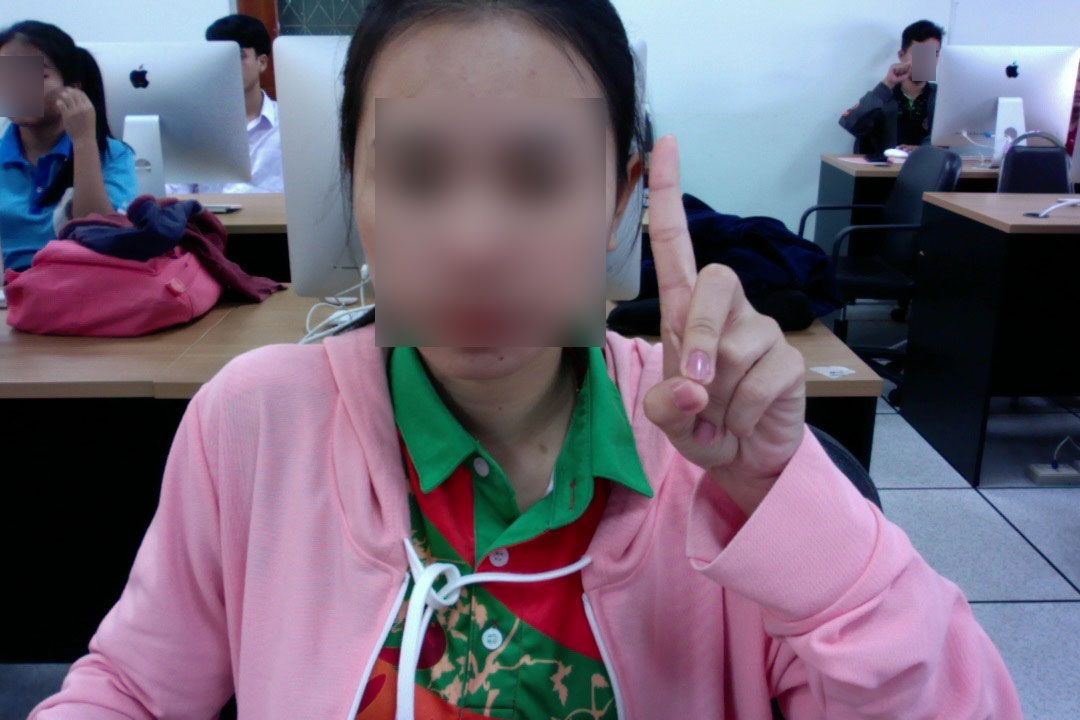dor: (634, 123, 817, 512)
